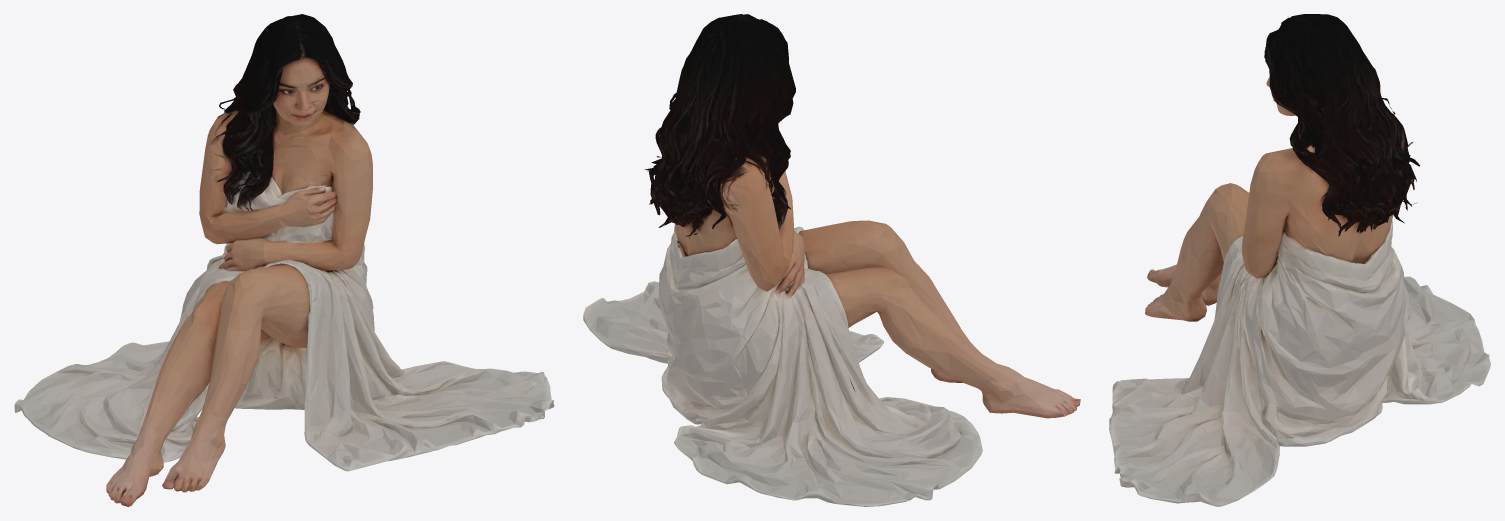
File: woman-seated-a.glb
3 views of the same model, side by side, from view 1: azimuth 30°, elevation 25°; view 2: azimuth 150°, elevation 25°; view 3: azimuth 270°, elevation 25° (orthographic). The views are drawn at different scales.
Parts seen in each view (by area): view 1: Mesh_0_modddif_material_0_0; view 2: Mesh_0_modddif_material_0_0; view 3: Mesh_0_modddif_material_0_0.
Boxes of the visible parts, <box> form: Mesh_0_modddif_material_0_0: <box>14,14,554,506</box>; Mesh_0_modddif_material_0_0: <box>583,14,1080,506</box>; Mesh_0_modddif_material_0_0: <box>1109,14,1490,506</box>.
Size of the model in its own units: 0.9993 by 0.7947 by 0.6948.
1 material, 1 textured.
